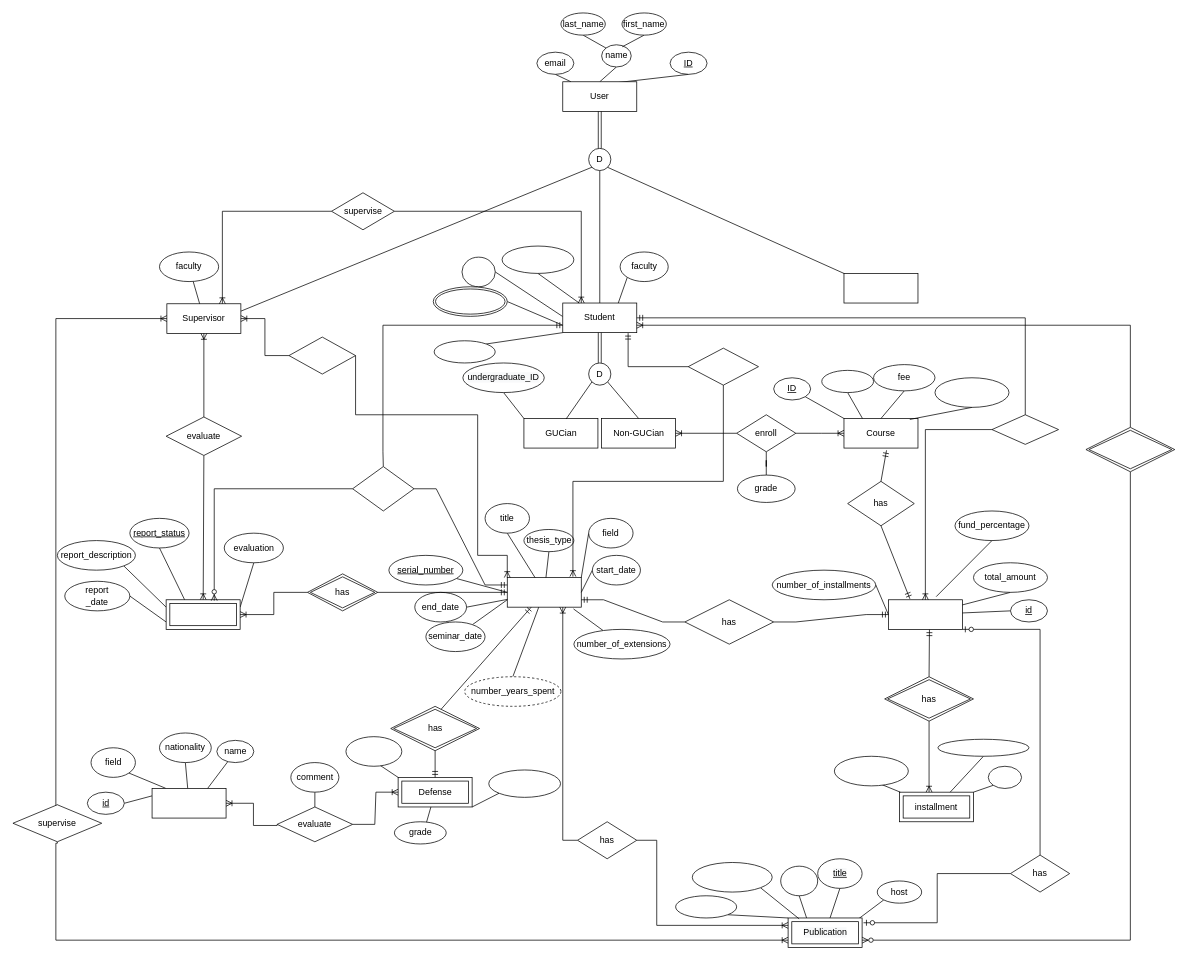
The diagram is 1188 pixels wide and 972 high, and some of its shapes have lost their labels. Each missing label, with the centre of its shape:
"Admin" goes at (x=880, y=288).
"amount" goes at (x=1005, y=777).
"assigned_to" goes at (x=322, y=355).
"code" goes at (x=847, y=381).
"credit_hours" goes at (x=971, y=392).
"defense_date" goes at (x=373, y=751).
"defense_location" goes at (x=524, y=783).
"Examiner" goes at (x=188, y=803).
"fill" goes at (x=383, y=488).
"GPA" goes at (x=478, y=271).
"installment_date" goes at (x=871, y=771).
"installment_status" goes at (x=983, y=747).
"mobile_numbers" goes at (x=470, y=301).
"pay" goes at (x=1025, y=429).
"Payment" goes at (x=925, y=614).
"place" goes at (x=799, y=880).
"posted_date" goes at (x=706, y=906).
"Progress_report" goes at (x=202, y=614).
"publication_status" goes at (x=732, y=877).
"publish" goes at (x=1130, y=449).
"register" goes at (x=722, y=366).
"student_address" goes at (x=537, y=259).
"student_type" goes at (x=464, y=351).
"Thesis" goes at (x=544, y=592).
